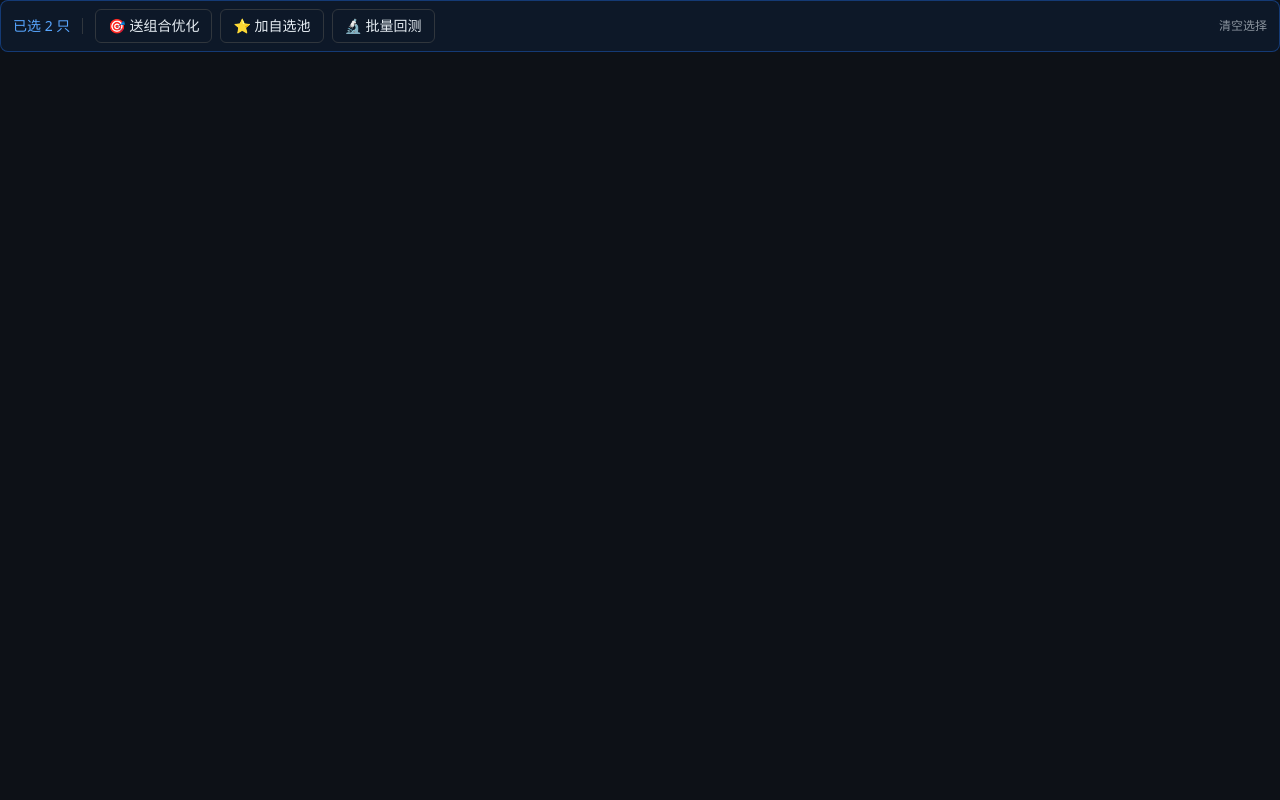
SelectionActions › adds selection to the watchlist and reports the count
Click the button "⭐ 加自选池" at (272, 26), box [220,9,324,43]
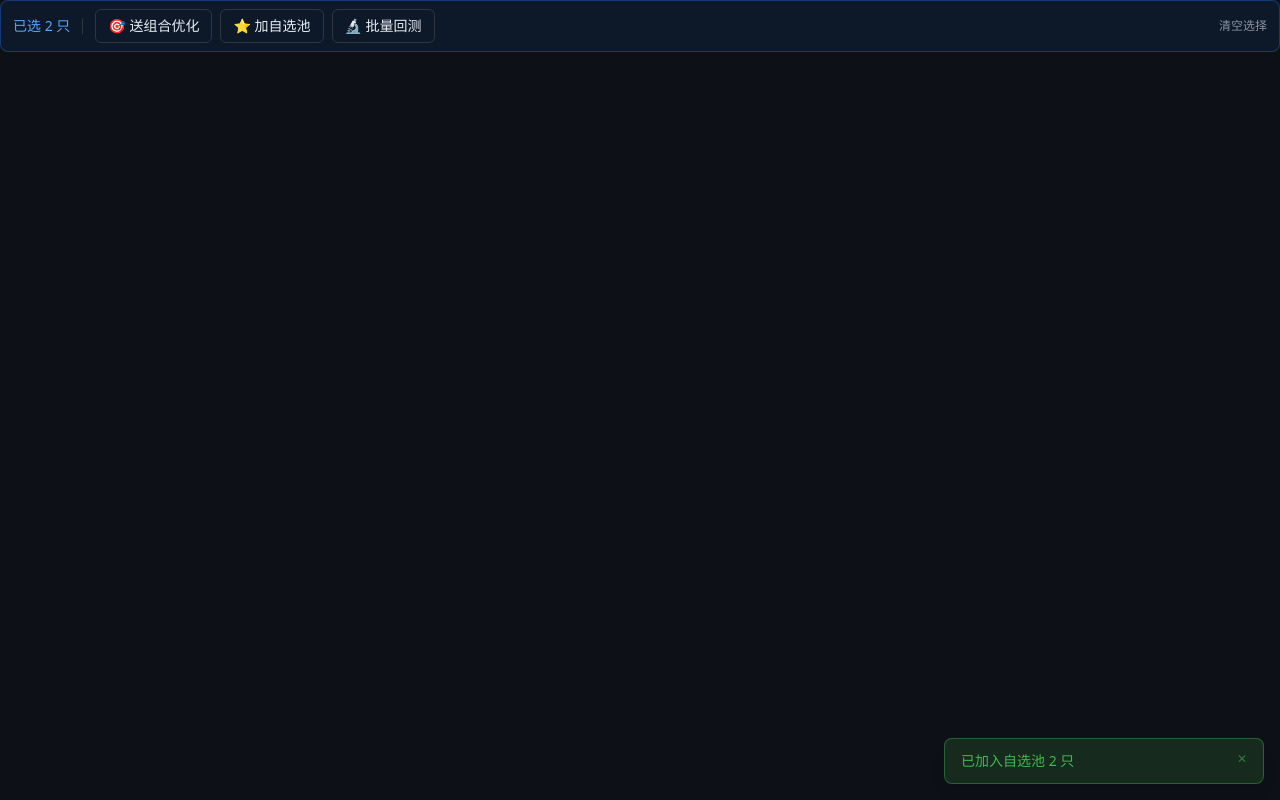
Result: the text "已加入自选池 2 只" is shown at [961,751,1074,770]
